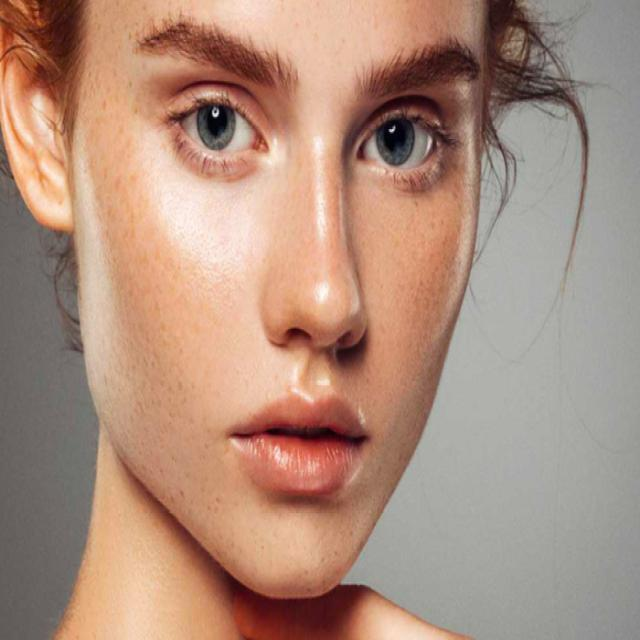Oily-Skin: (435, 78, 477, 340), (338, 186, 361, 314), (311, 134, 332, 248), (314, 272, 334, 304)
